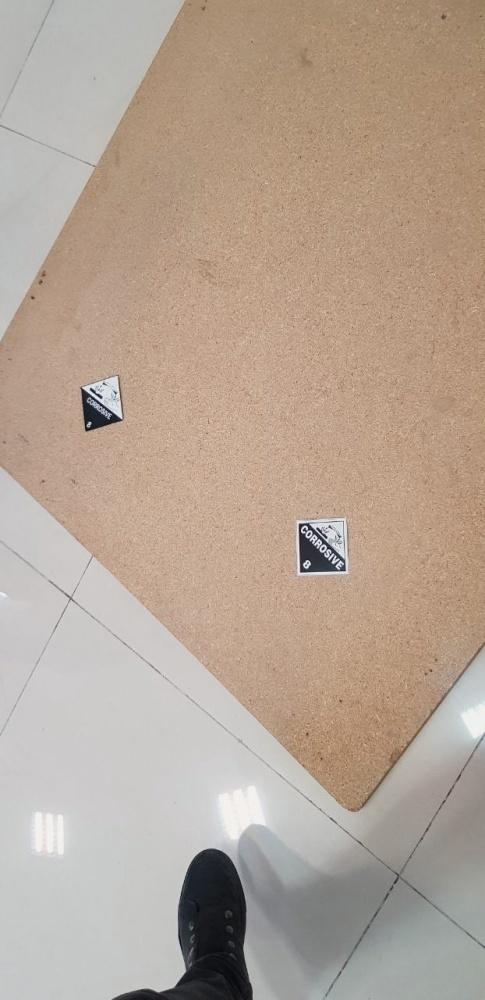corrosive: (295, 517, 352, 575), (78, 378, 124, 433)
